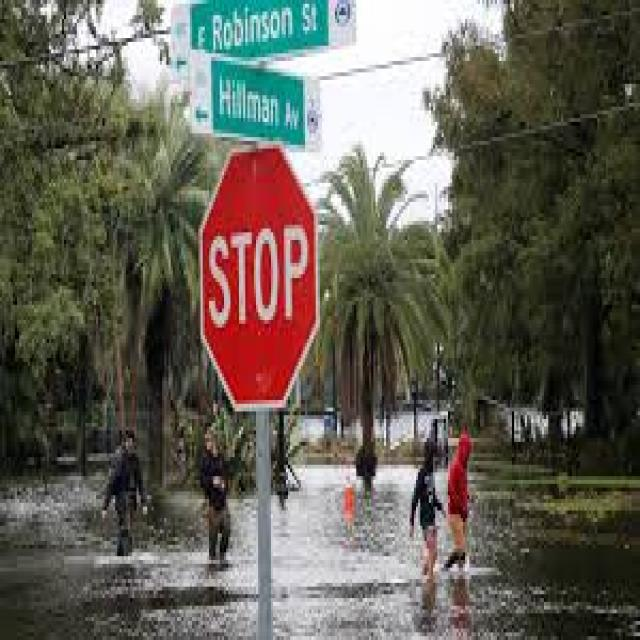stop-sign: (190, 100, 364, 427)
